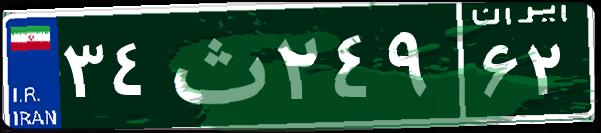2: (273, 28, 330, 110), (525, 38, 570, 115)
3: (57, 26, 110, 107)
4: (330, 28, 385, 110), (110, 28, 158, 105)
6: (475, 38, 525, 113)
9: (385, 28, 445, 110)
ث: (158, 15, 273, 115)
